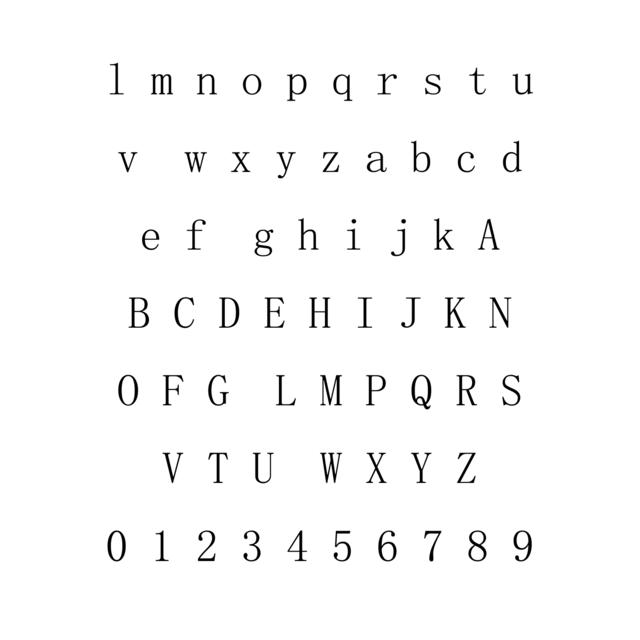alphabet: (411, 373, 433, 410), (173, 296, 195, 332), (118, 373, 140, 408), (488, 297, 511, 330), (207, 374, 229, 408), (444, 297, 466, 331), (128, 297, 150, 330), (217, 297, 239, 330), (264, 297, 286, 330), (455, 373, 476, 407), (319, 374, 341, 406), (513, 528, 533, 563), (500, 373, 520, 408), (320, 451, 341, 484), (163, 451, 184, 484), (479, 219, 500, 252), (378, 527, 398, 561), (163, 374, 184, 406), (207, 452, 228, 484), (412, 140, 432, 173), (411, 451, 431, 484), (106, 528, 126, 561), (300, 218, 319, 252), (423, 527, 442, 561), (309, 296, 328, 330), (286, 529, 306, 561), (285, 72, 306, 102), (503, 141, 522, 174), (334, 72, 354, 103), (356, 294, 373, 329), (183, 152, 206, 174), (152, 73, 174, 96), (364, 152, 386, 174), (242, 74, 262, 97), (456, 150, 475, 173), (141, 229, 160, 251), (424, 73, 441, 96), (307, 294, 318, 328)
